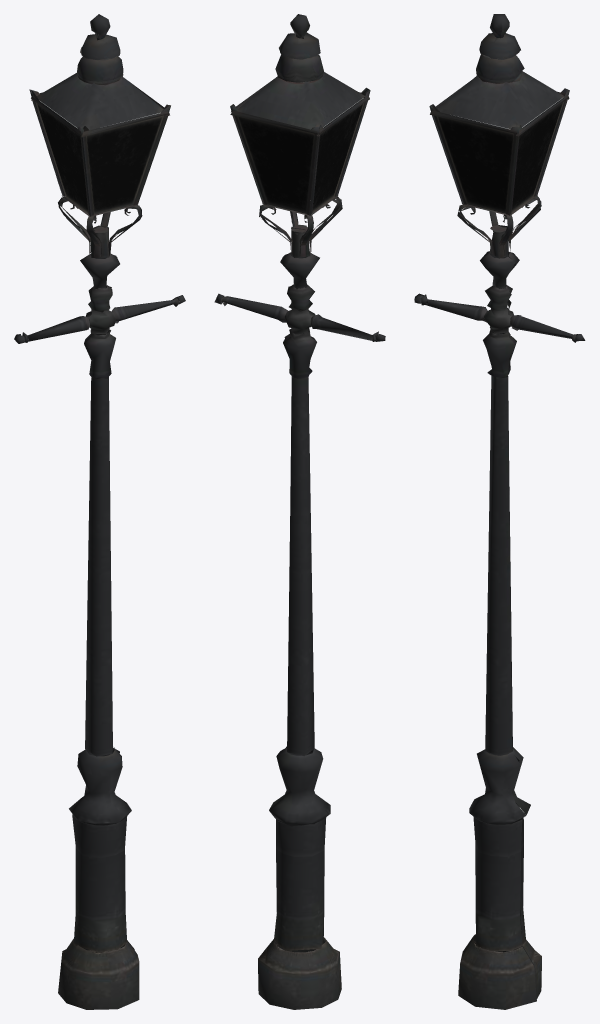
The model's file is ph_street_lamp_01.glb.
3 renders of one model, left to right at view 1: azimuth 30°, elevation 25°; view 2: azimuth 150°, elevation 25°; view 3: azimuth 330°, elevation 25°, orthographic.
Parts seen in each view (by area): view 1: street_lamp_01; view 2: street_lamp_01; view 3: street_lamp_01.
Boxes of the visible parts, x1,y1,x2,y2 form: street_lamp_01: (14, 14, 185, 1009); street_lamp_01: (214, 14, 385, 1009); street_lamp_01: (414, 14, 585, 1009).
Bounding box in the file's own units: 0.7033 × 3.87 × 0.373.
Materials: 3 (3 with a texture image).
